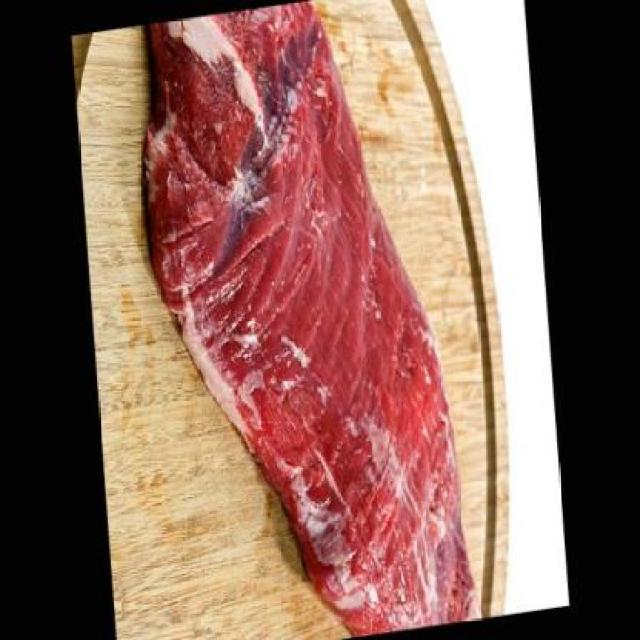beef: (128, 0, 489, 638)
